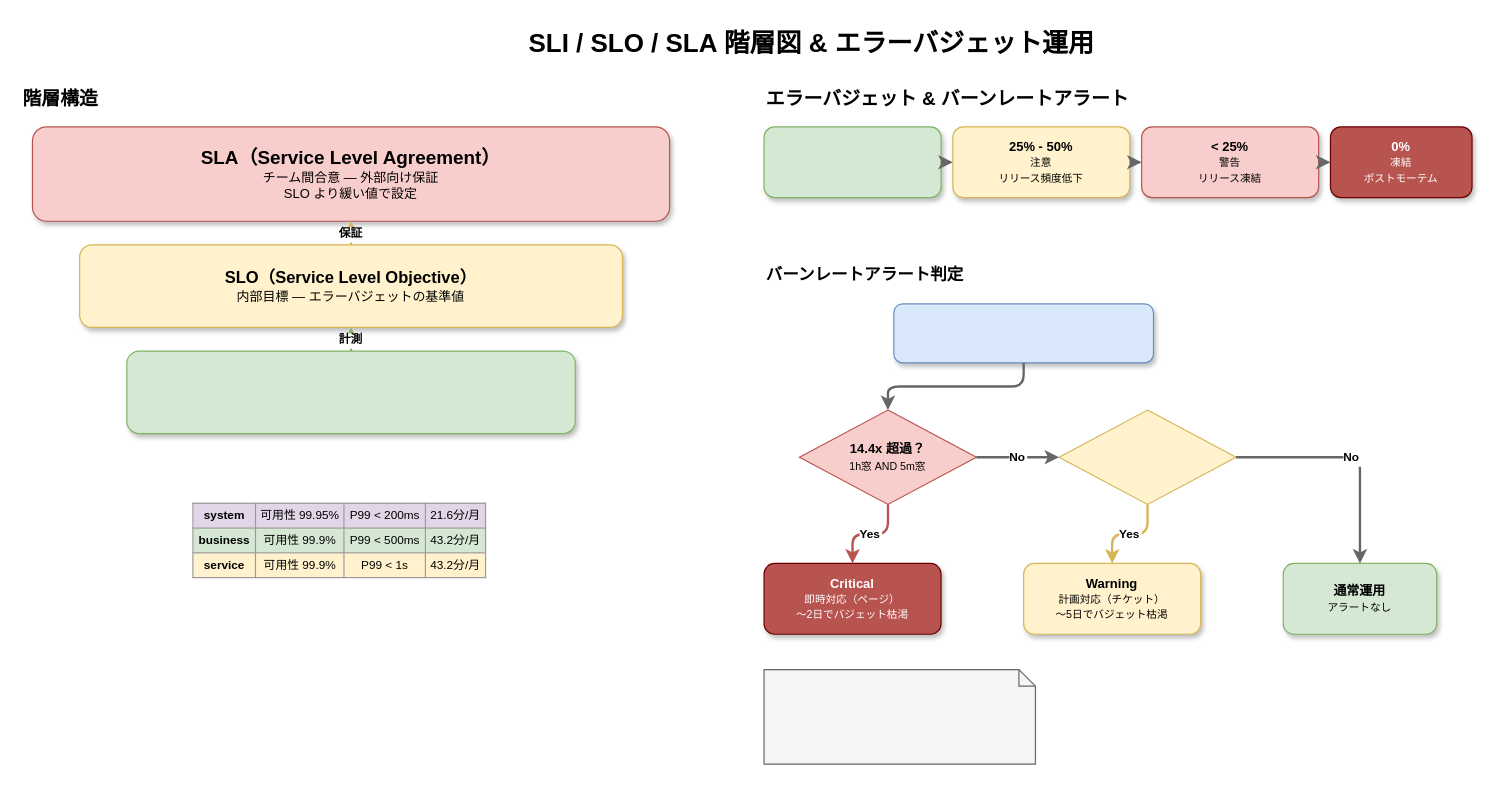
The diagram is 1500 pixels wide and 785 high, and some of its shapes have lost their labels. Here are the shapes that lost their labels. From the top down, the centre of each, then its label:
At (x=853, y=163): "> 50% 通常運用 新機能リリース可".
At (x=1024, y=334): "バーンレート計算 実測エラー率 / エラーバジェット".
At (x=351, y=393): "SLI（Service Level Indicator） 計測指標 — 可用性・レイテンシ・エラー率".
At (x=1147, y=456): "6x 超過？ 6h窓 AND 30m窓".
At (x=899, y=716): "Multi-window, Multi-burn-rate 短期窓: 急激な劣化を即座に検知 長期窓: 緩やかな劣化を検知 両方の条件を AND で評価".
